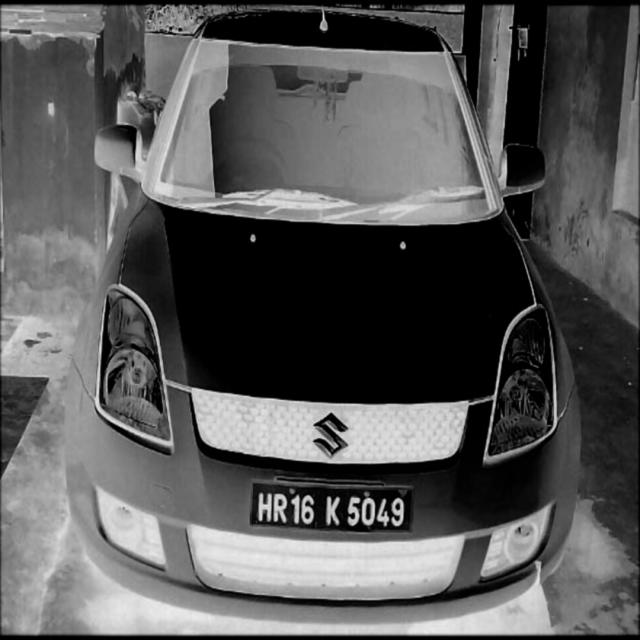Non_registered: (252, 483, 415, 541)
